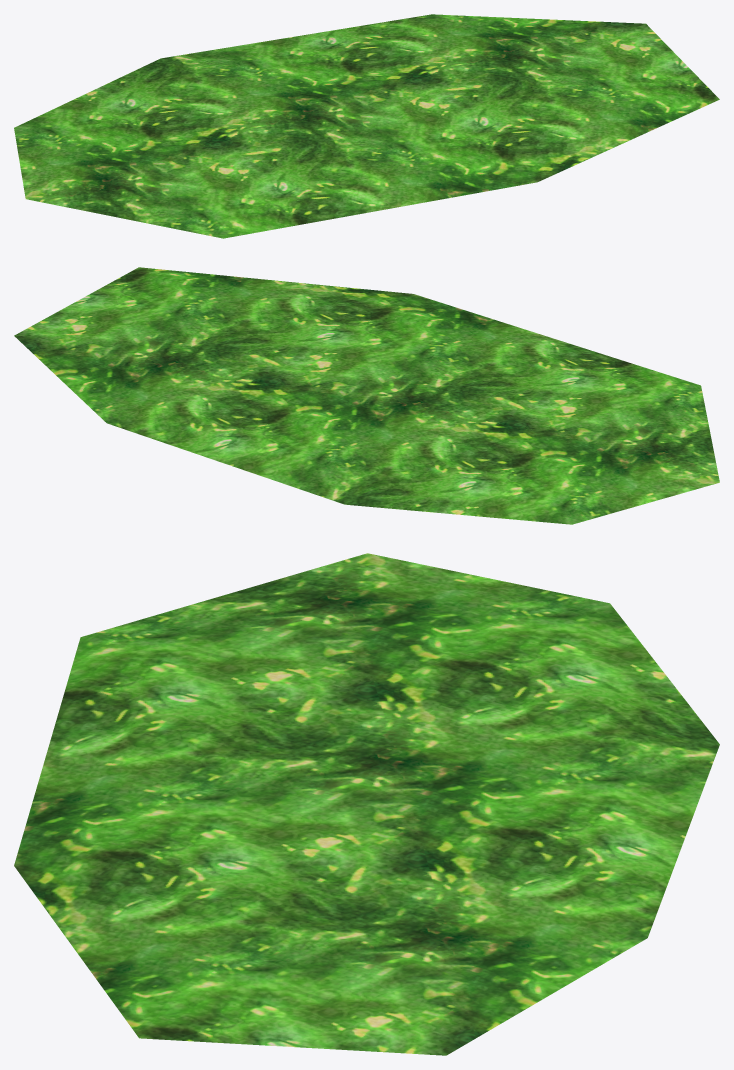
Rendered from toxic_puddle_3.fbx.
The picture shows the model from 3 angles, top to bottom: view 1: azimuth 30°, elevation 25°; view 2: azimuth 150°, elevation 25°; view 3: azimuth 270°, elevation 25°; orthographic projection. The views are drawn at different scales.
Parts seen in each view (by area): view 1: polySurface61; view 2: polySurface61; view 3: polySurface61.
Part boxes in pixels (x1=…): polySurface61: x1=14, y1=14, x2=719, y2=238; polySurface61: x1=14, y1=267, x2=719, y2=524; polySurface61: x1=14, y1=553, x2=719, y2=1055.
Size of the model in its own units: 12.25 by 0.1875 by 7.27.
